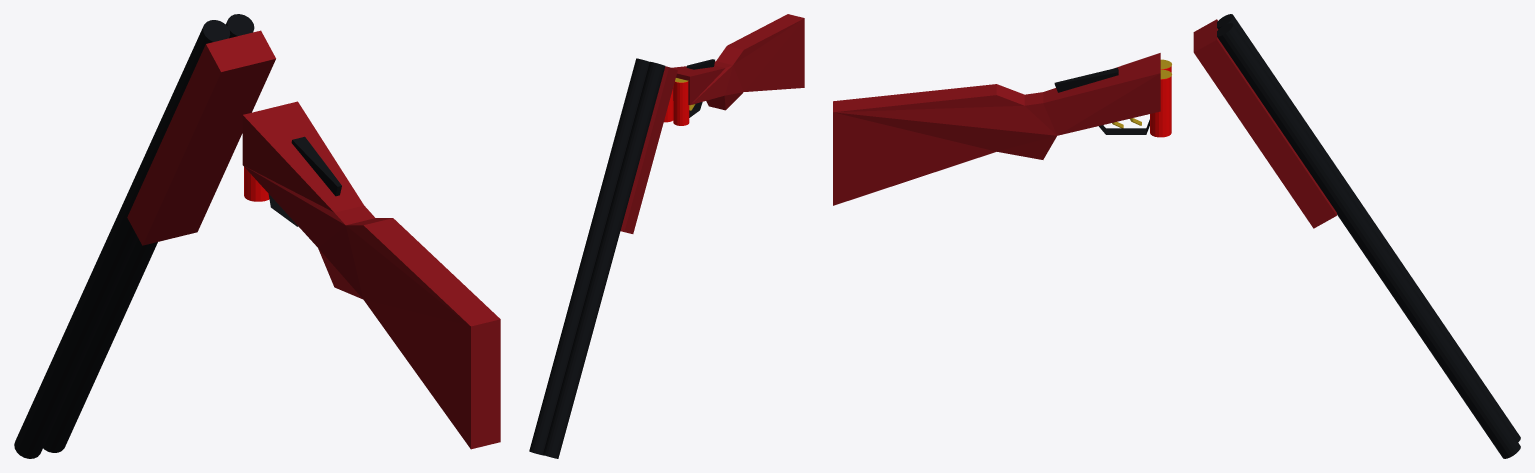
File: double-barreled-shotgun0022.obj
The picture shows the model from 3 angles, left to right: view 1: azimuth 30°, elevation 25°; view 2: azimuth 150°, elevation 25°; view 3: azimuth 270°, elevation 25°; orthographic projection. The views are drawn at different scales.
Parts seen in each view (by area): view 1: rearStock, foreGrip, leftBarrel, rightBarrel, topLatch, shellPlastic; view 2: rearStock, leftBarrel, rightBarrel, foreGrip, shellPlastic; view 3: rearStock, rightBarrel, foreGrip, leftBarrel, shellPlastic2.
Part boxes in pixels (<box>): rearStock: <box>242,101,500,449</box>; foreGrip: <box>127,30,275,245</box>; leftBarrel: <box>14,20,230,458</box>; rightBarrel: <box>43,14,254,452</box>; topLatch: <box>291,136,341,196</box>; shellPlastic: <box>244,167,269,201</box>; rearStock: <box>671,14,804,110</box>; leftBarrel: <box>543,61,665,458</box>; rightBarrel: <box>529,58,649,455</box>; foreGrip: <box>620,66,677,233</box>; shellPlastic: <box>673,81,689,125</box>; rearStock: <box>833,53,1160,205</box>; rightBarrel: <box>1217,23,1520,458</box>; foreGrip: <box>1193,19,1336,228</box>; leftBarrel: <box>1217,14,1520,442</box>; shellPlastic2: <box>1150,76,1171,137</box>.
Bounding box in the file's own units: 0.2057 × 2.02 × 2.91.
